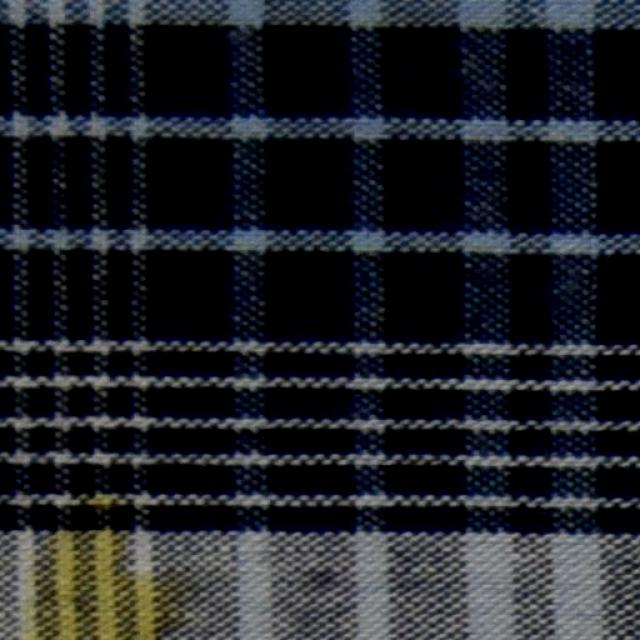Stain: (19, 480, 200, 639)
